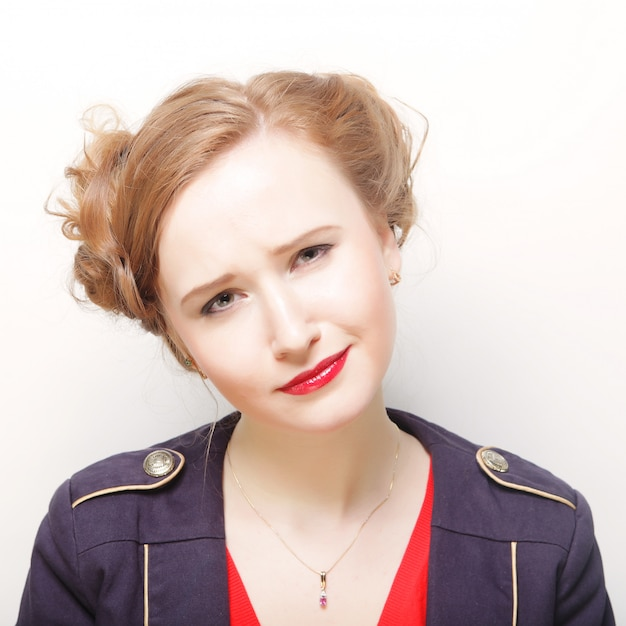teen: (86, 57, 443, 459)
